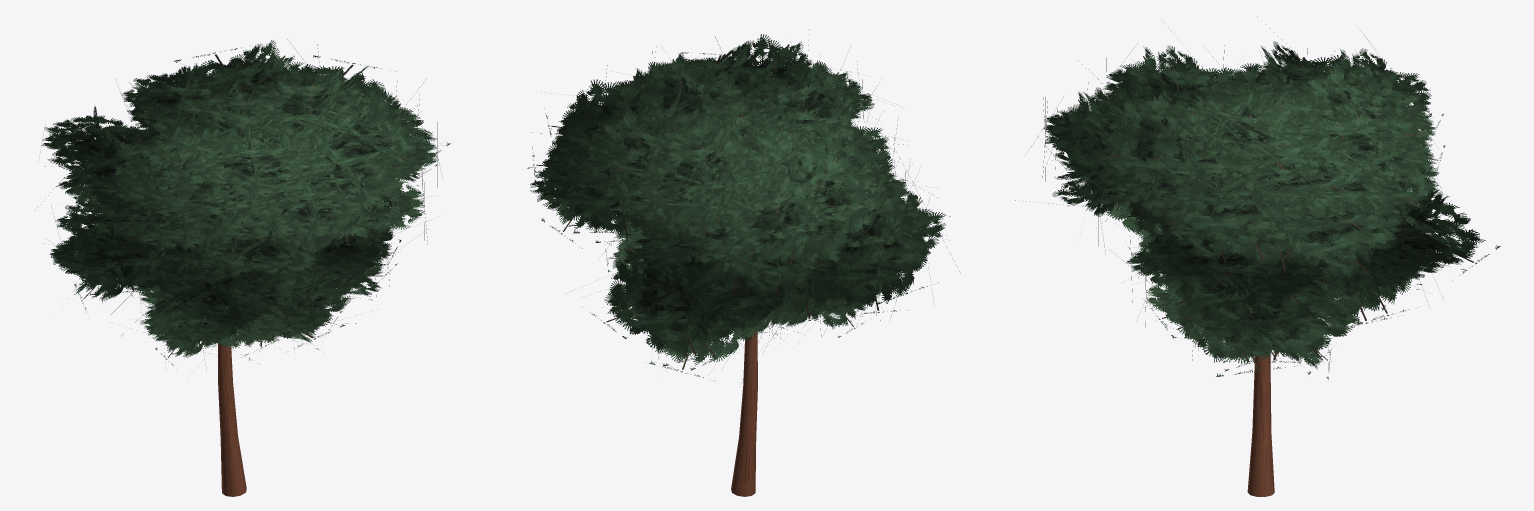
File: tree_pine_0.glb
3 views of the same model, side by side, from view 1: azimuth 30°, elevation 25°; view 2: azimuth 150°, elevation 25°; view 3: azimuth 270°, elevation 25° (orthographic). The views are drawn at different scales.
Parts seen in each view (by area): view 1: tree_pine_0_LOD0; view 2: tree_pine_0_LOD0; view 3: tree_pine_0_LOD0.
Part boxes in pixels (x1,y1,x2,y2): tree_pine_0_LOD0: (37,39,450,496); tree_pine_0_LOD0: (527,29,960,496); tree_pine_0_LOD0: (1015,17,1500,496).
Size of what is drawn, in the model's own units: 11.27 by 10.69 by 11.16.
1 material, 1 textured.
